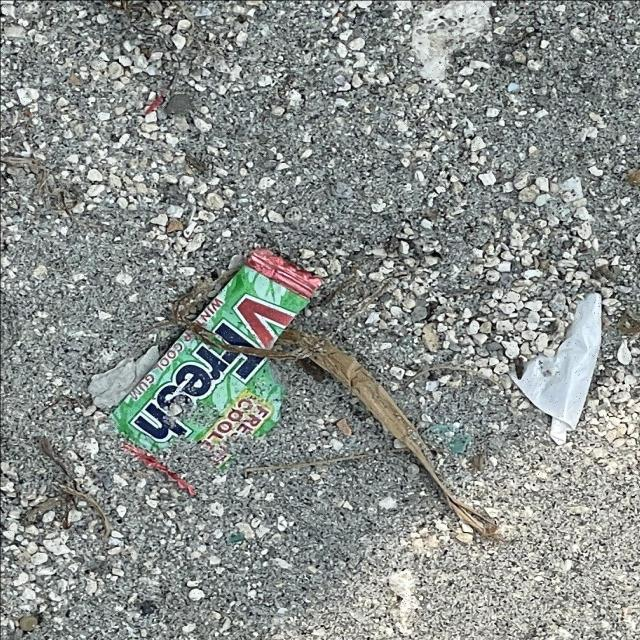plastic_waste: (106, 244, 324, 490)
